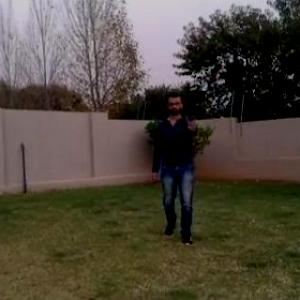takeoff-hand: (182, 108, 202, 138)
